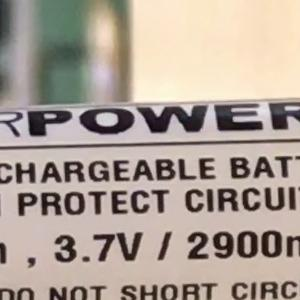3.7V: (45, 222, 153, 273)
